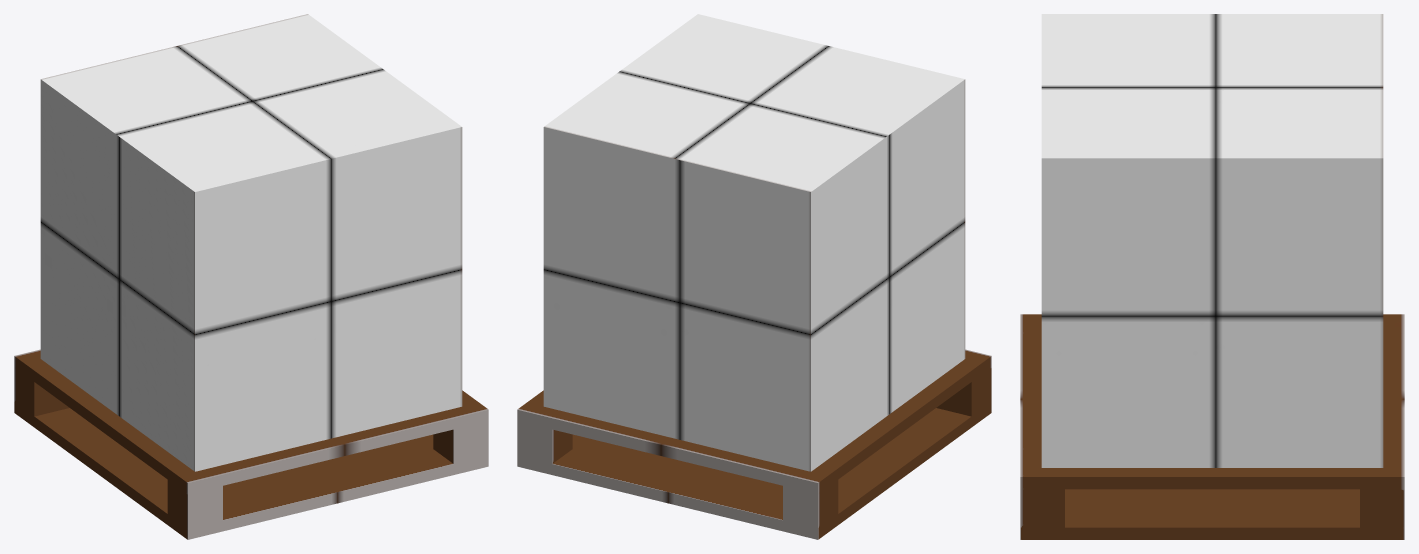
The model's file is Pallet.fbx.
3 views of the same model, side by side, from view 1: azimuth 30°, elevation 25°; view 2: azimuth 150°, elevation 25°; view 3: azimuth 270°, elevation 25° (orthographic). The views are drawn at different scales.
Parts seen in each view (by area): view 1: Pallet; view 2: Pallet; view 3: Pallet.
Boxes of the visible parts, x1,y1,x2,y2 form: Pallet: (14,14,488,539); Pallet: (517,14,991,539); Pallet: (1020,14,1404,539).
Size of the model in its own units: 94.97 by 102 by 94.97.
